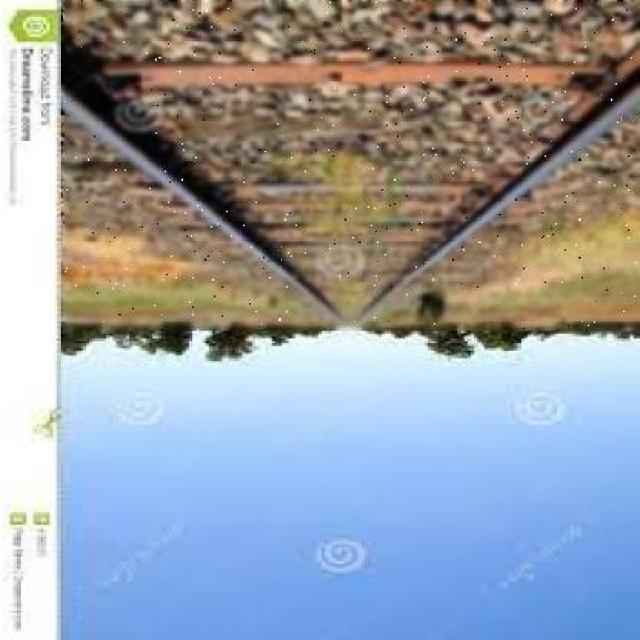rail: (65, 2, 640, 330)
